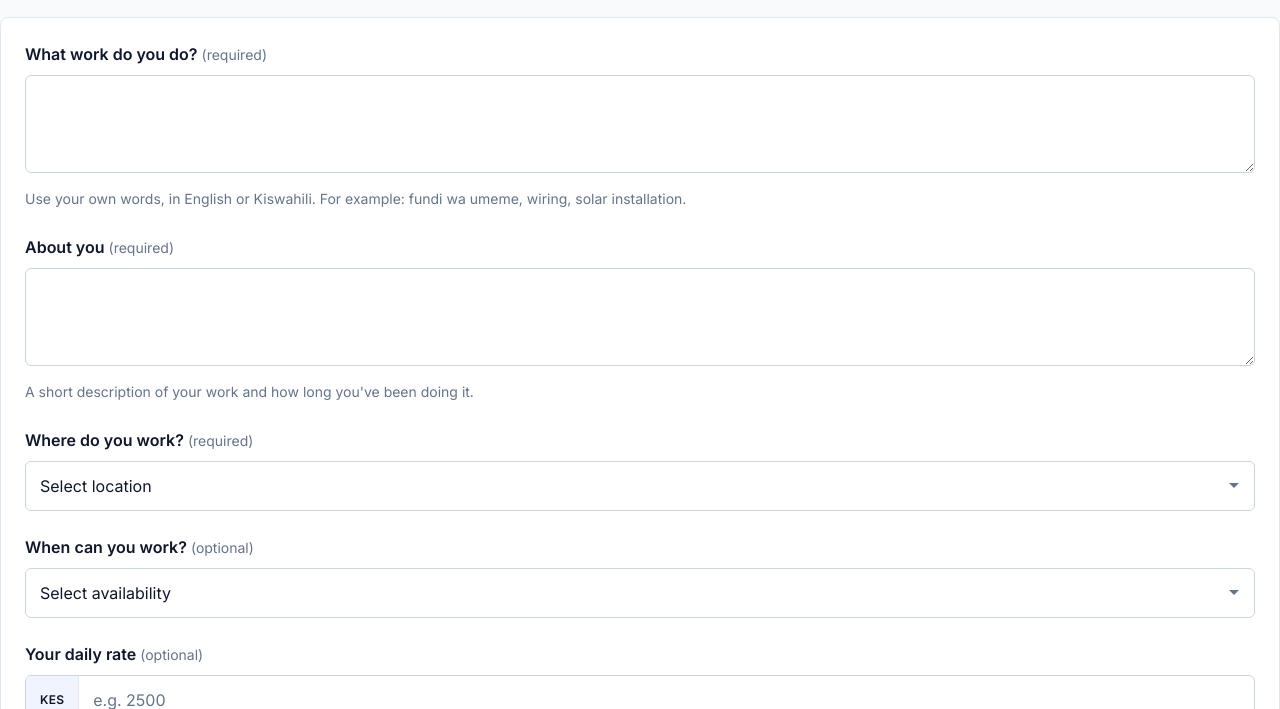
Test: a worker who has no profile yet › asks before clearing the form, and leaves it alone on No
The image size is (1280, 709).
In the text box labelled "What work do you do? (required)": (640, 124) [25,75,1255,173], type "fundi wa umeme"
(page scrolled)
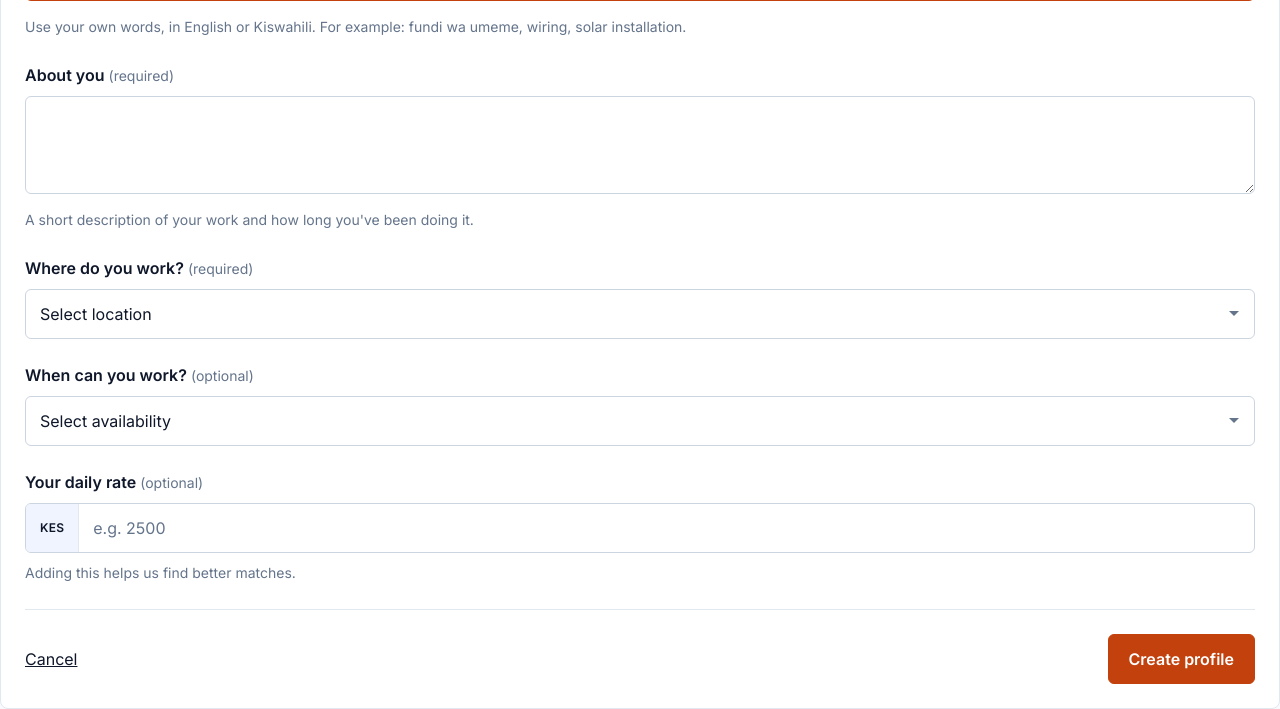
Click the button "Cancel": (51, 659) [25,647,78,671]
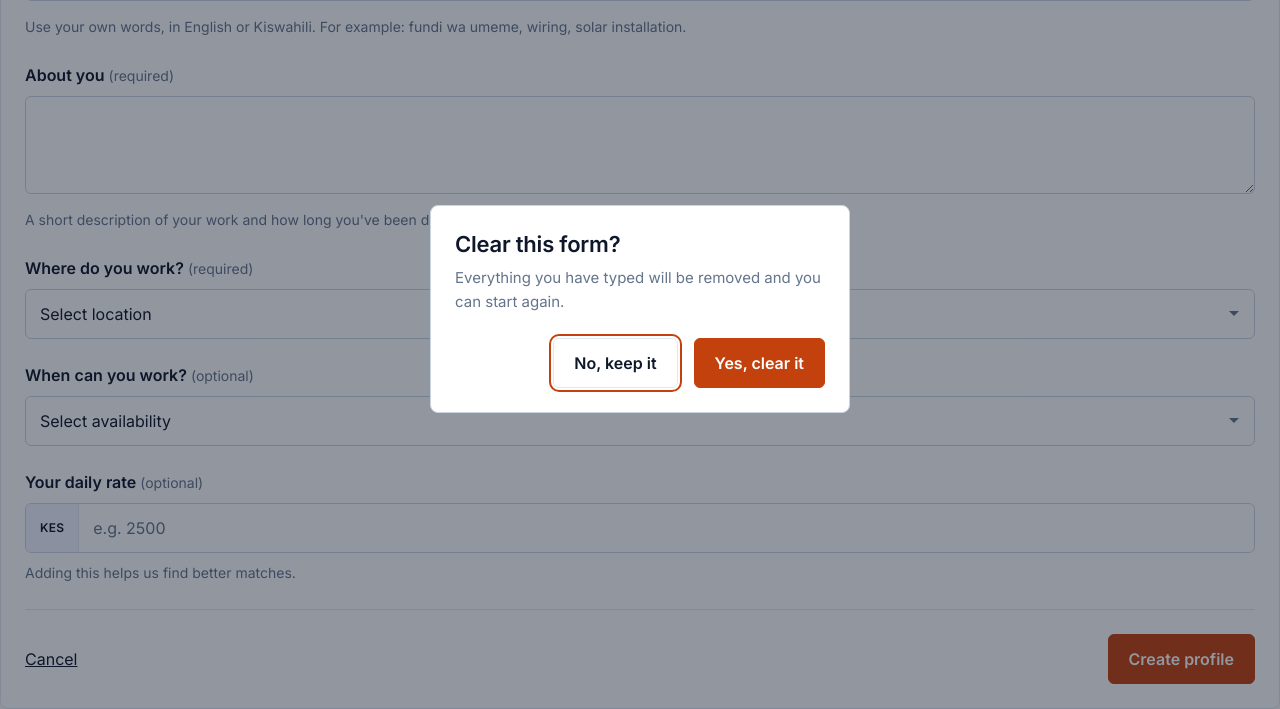
Result: the dialog "Clear this form?" is shown at [430,205,850,413]
Click the button "No, keep it": (615, 363) [553,338,678,388]
(page scrolled)
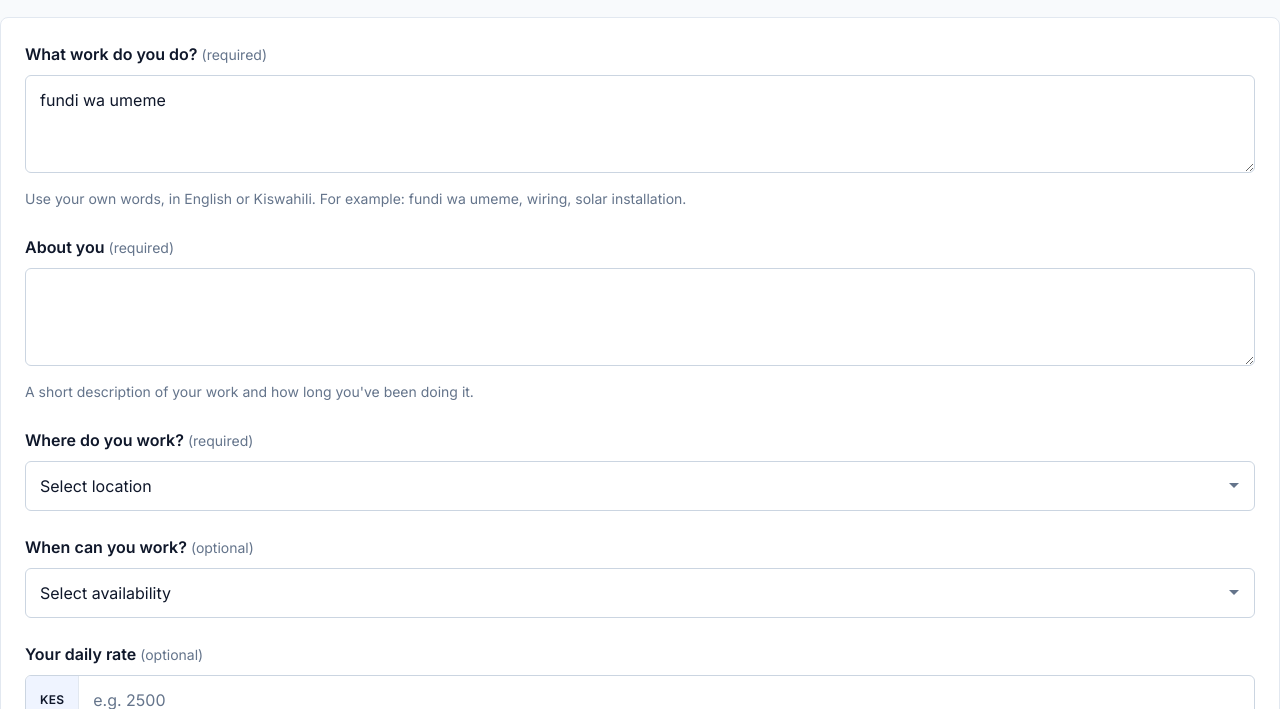
Result: the dialog is gone
